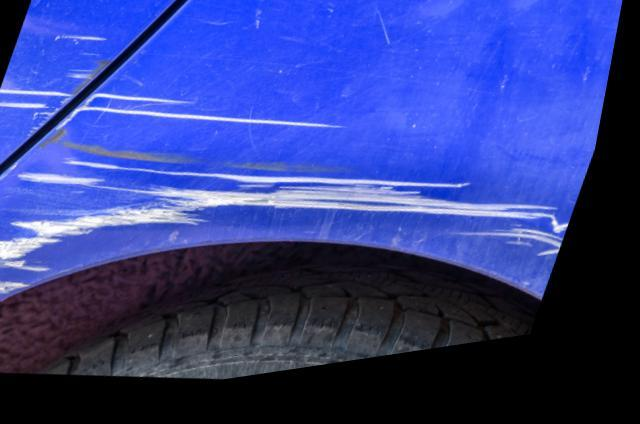rub: (0, 99, 586, 295), (0, 35, 113, 140)
